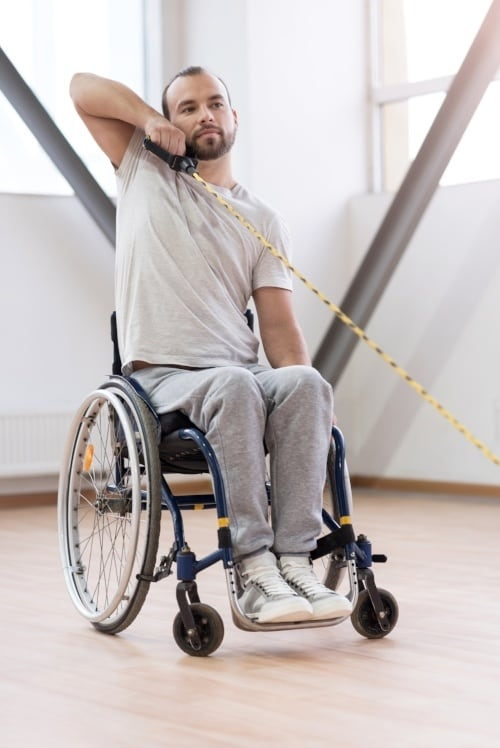person: (59, 65, 344, 396)
wheelchair: (58, 364, 390, 662)
